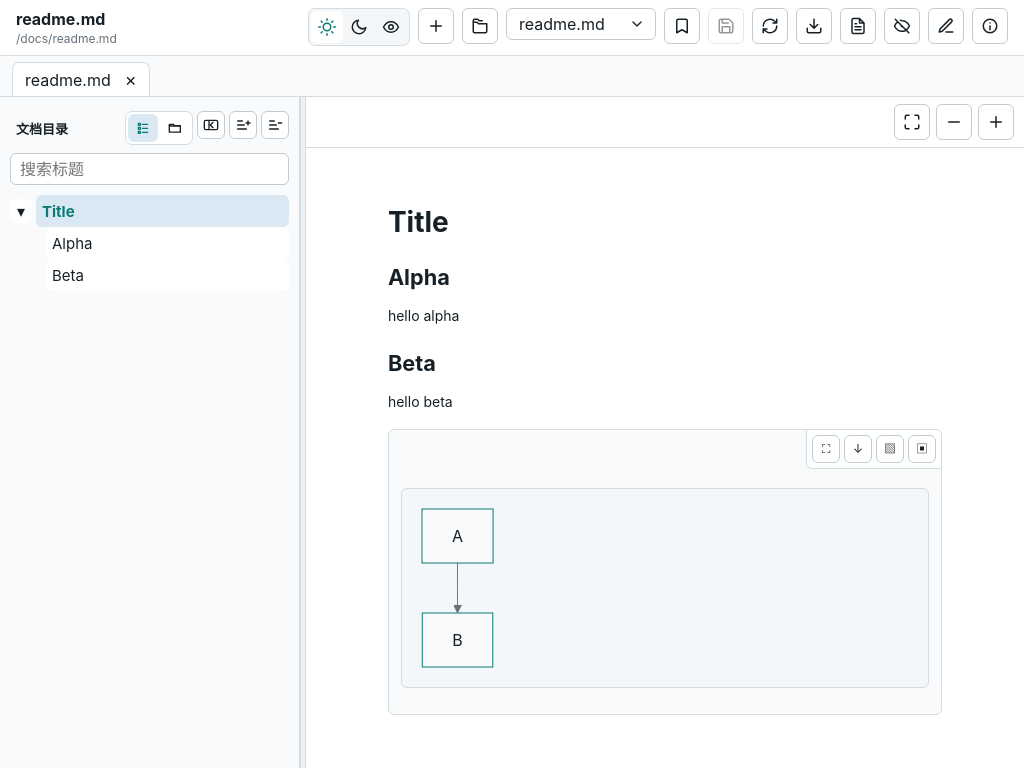
Scenario: App › disambiguates recent file options that share the same file name
The width and height of the screenshot is (1024, 768).
What coordinates should you click on to do the following:
click the button with test id "recent-files"
I would click on:
 (581, 24)
Its box is [506,8,656,40].
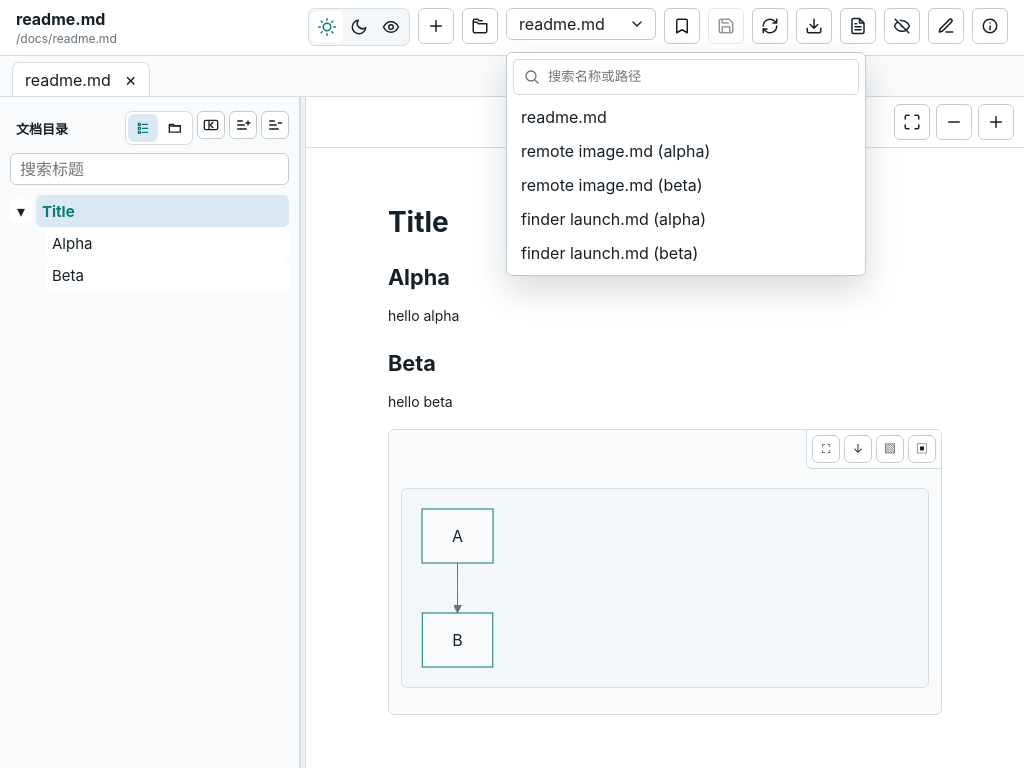
Check: the text with class "recent-file-open" reads "remote image.md (alpha)", box [521,140,710,160]
Check: the text with class "recent-file-open" reads "remote image.md (beta)", box [521,174,703,194]
Check: the text with class "recent-file-open" reads "finder launch.md (alpha)", box [521,208,706,228]
